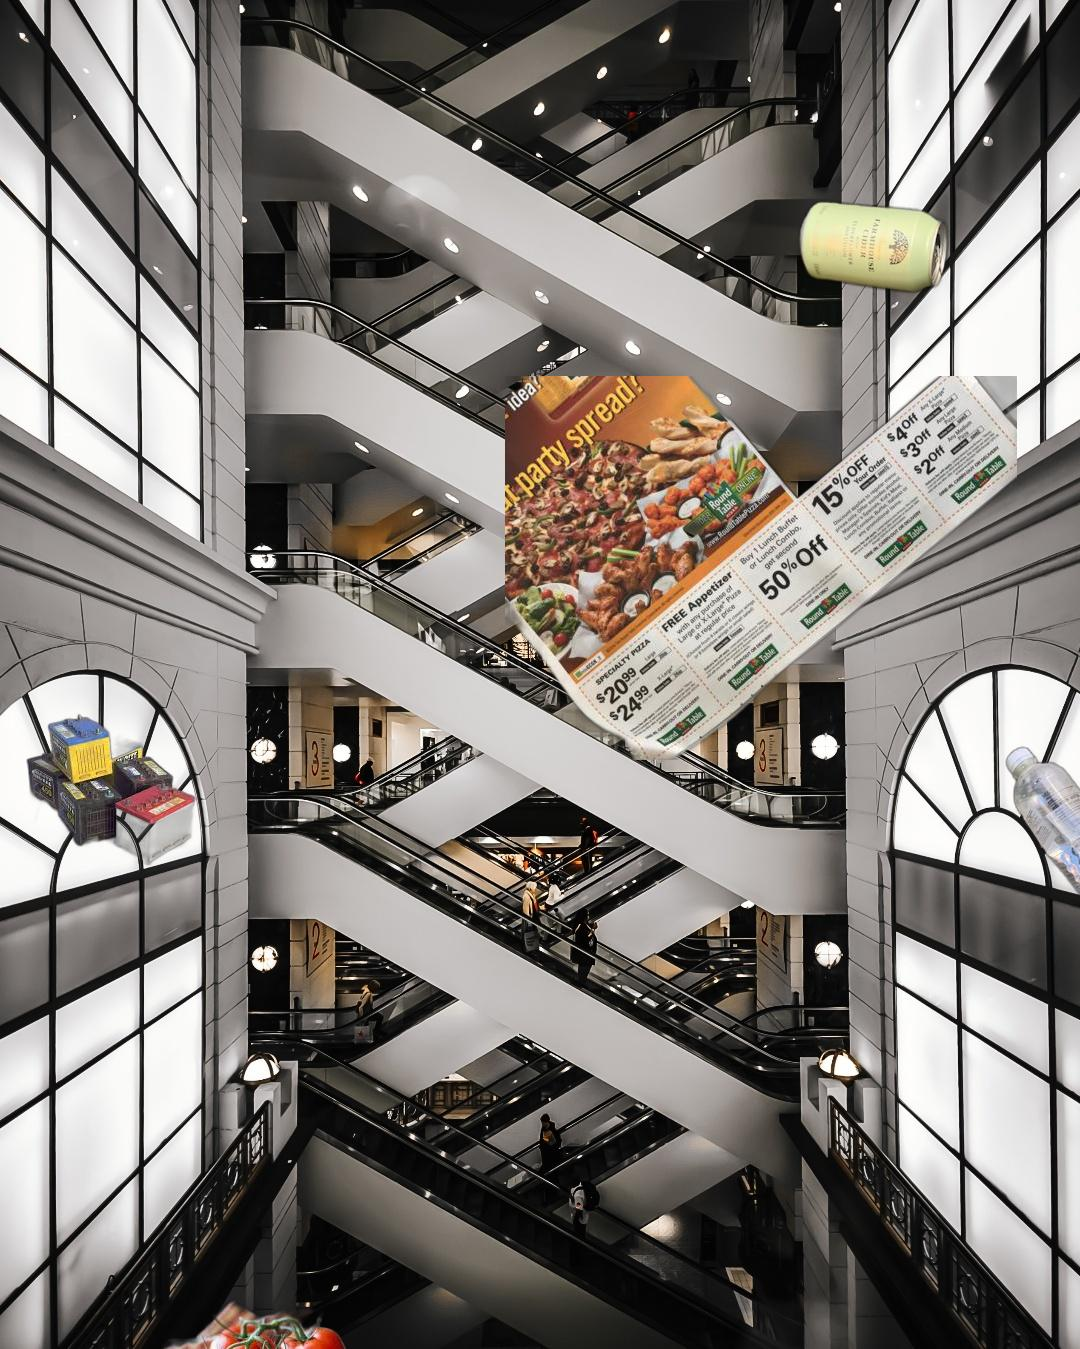battery: (25, 712, 198, 873)
biological: (132, 1296, 387, 1349)
metal-cans: (795, 195, 1066, 299)
paper: (505, 376, 1017, 760)
plastic-bottles: (1002, 741, 1080, 1170)
